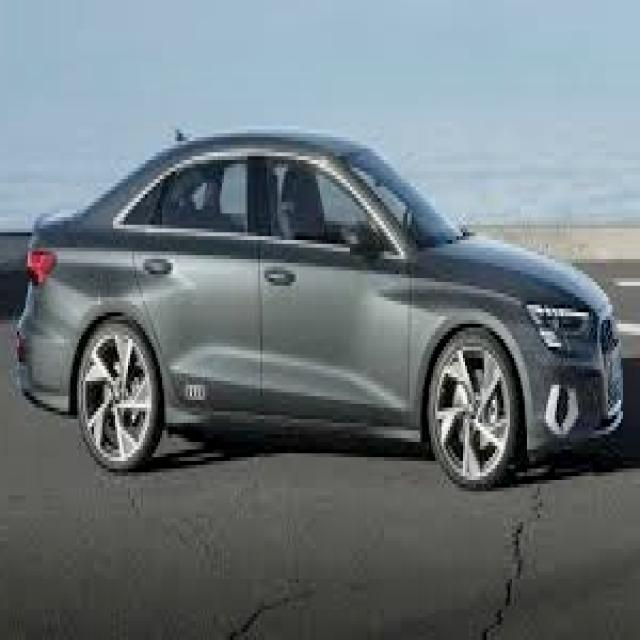black: (0, 110, 611, 474)
